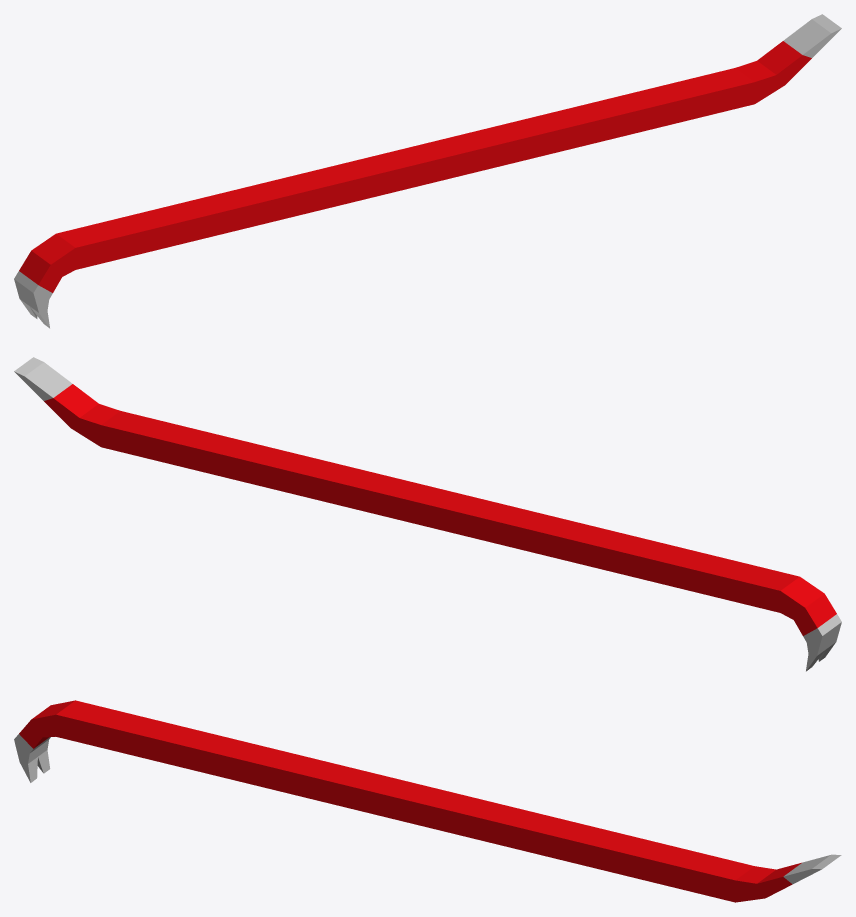
File: crowbar.fbx
3 renders of one model, top to bottom at view 1: azimuth 30°, elevation 25°; view 2: azimuth 150°, elevation 25°; view 3: azimuth 330°, elevation 25°, orthographic.
Visible parts, largest first — view 1: body; view 2: body; view 3: body.
Boxes of the visible parts, <box> form: body: <box>14,14,841,328</box>; body: <box>14,357,841,671</box>; body: <box>14,700,841,902</box>.
Size of the model in its own units: 969 by 123 by 40.48.
